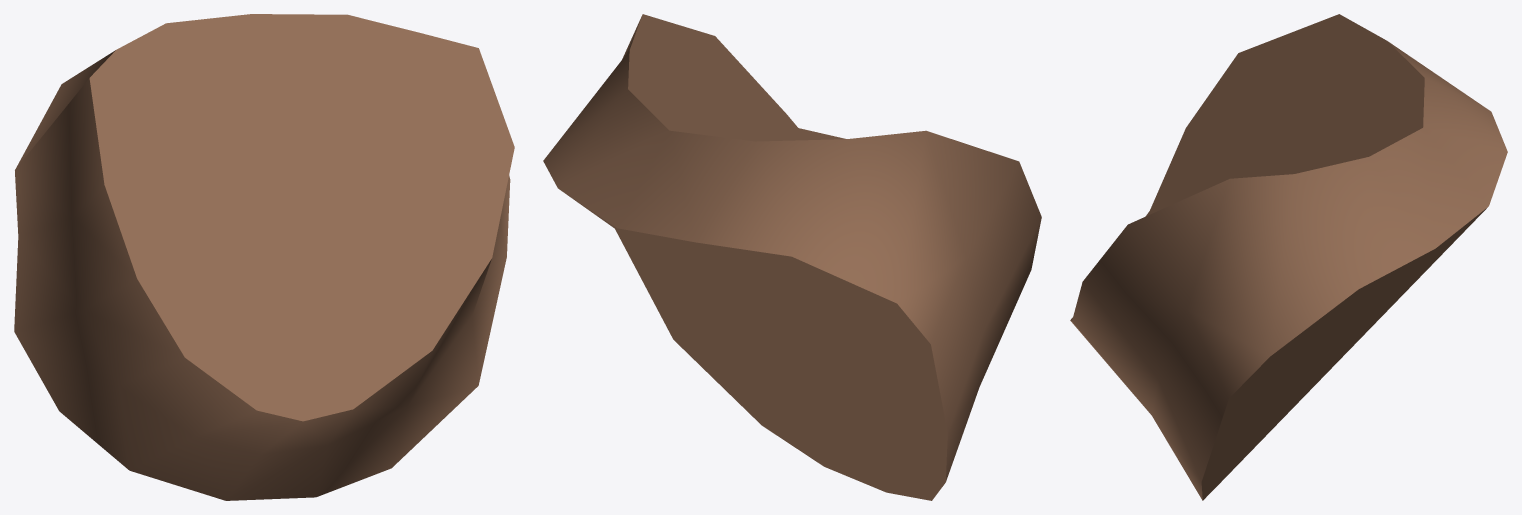
The model's file is Vivian_Neck.fbx.
The picture shows the model from 3 angles, left to right: view 1: azimuth 30°, elevation 25°; view 2: azimuth 150°, elevation 25°; view 3: azimuth 270°, elevation 25°; orthographic projection. The views are drawn at different scales.
Parts seen in each view (by area): view 1: V_Neck; view 2: V_Neck; view 3: V_Neck.
Part boxes in pixels (x1=…): V_Neck: x1=14, y1=14, x2=514, y2=500; V_Neck: x1=543, y1=14, x2=1041, y2=500; V_Neck: x1=1070, y1=14, x2=1507, y2=500.
Size of the model in its own units: 10.5 by 9.56 by 9.58.
